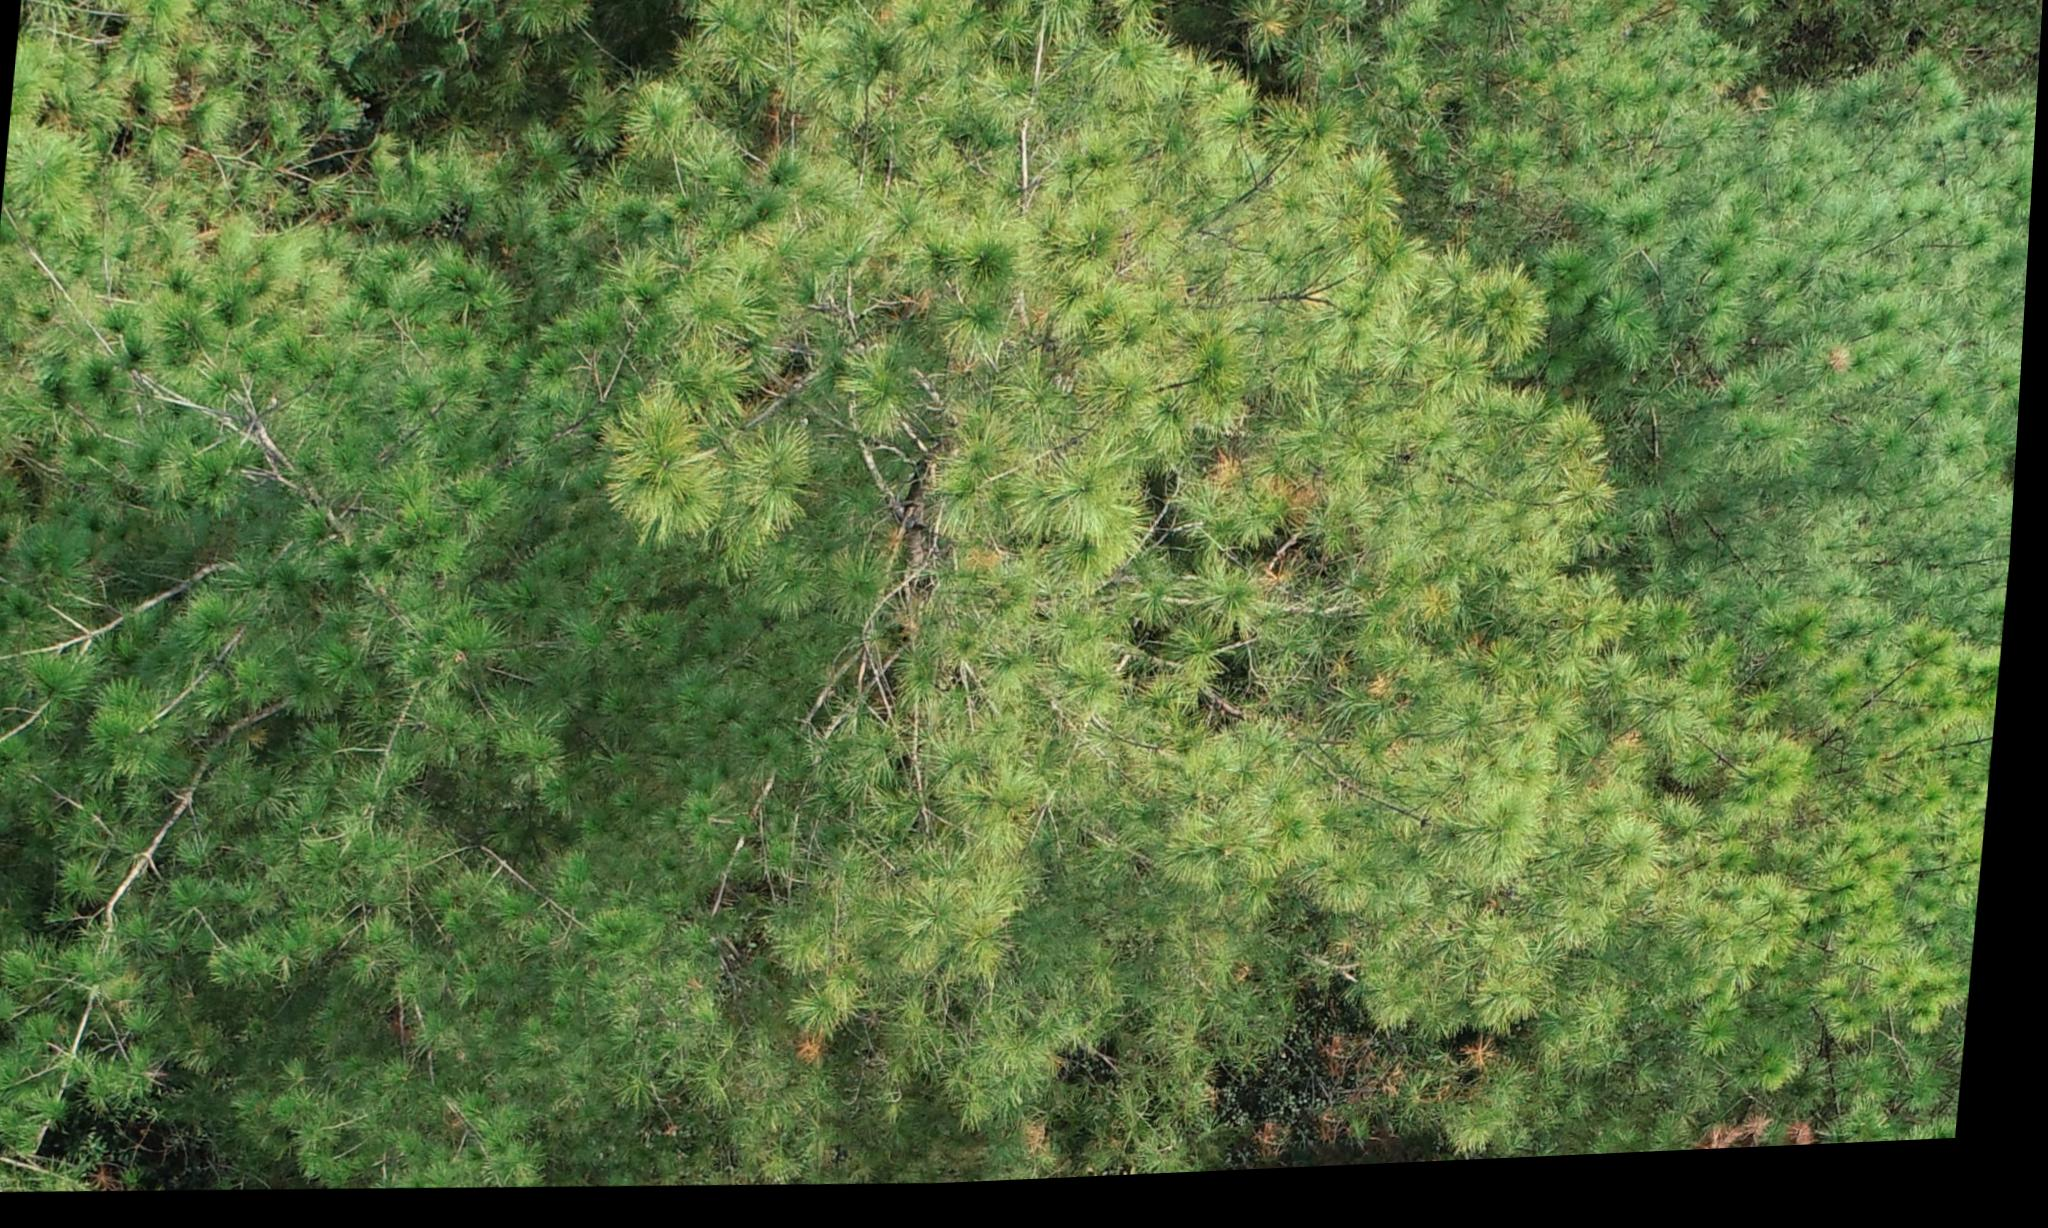light: (0, 0, 2022, 1228)
